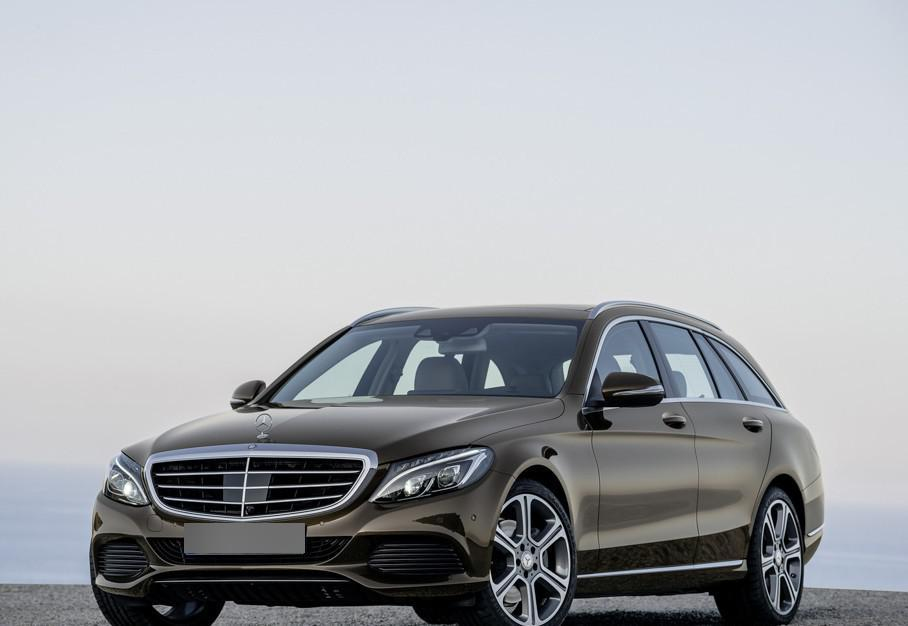Wagon: (90, 300, 823, 626)
